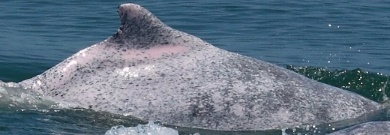fin: (11, 2, 374, 135)
